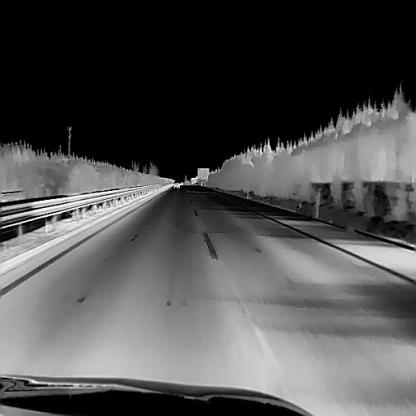car: (173, 178, 179, 187)
